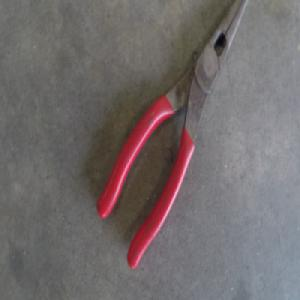Pliers: (96, 1, 259, 273)
